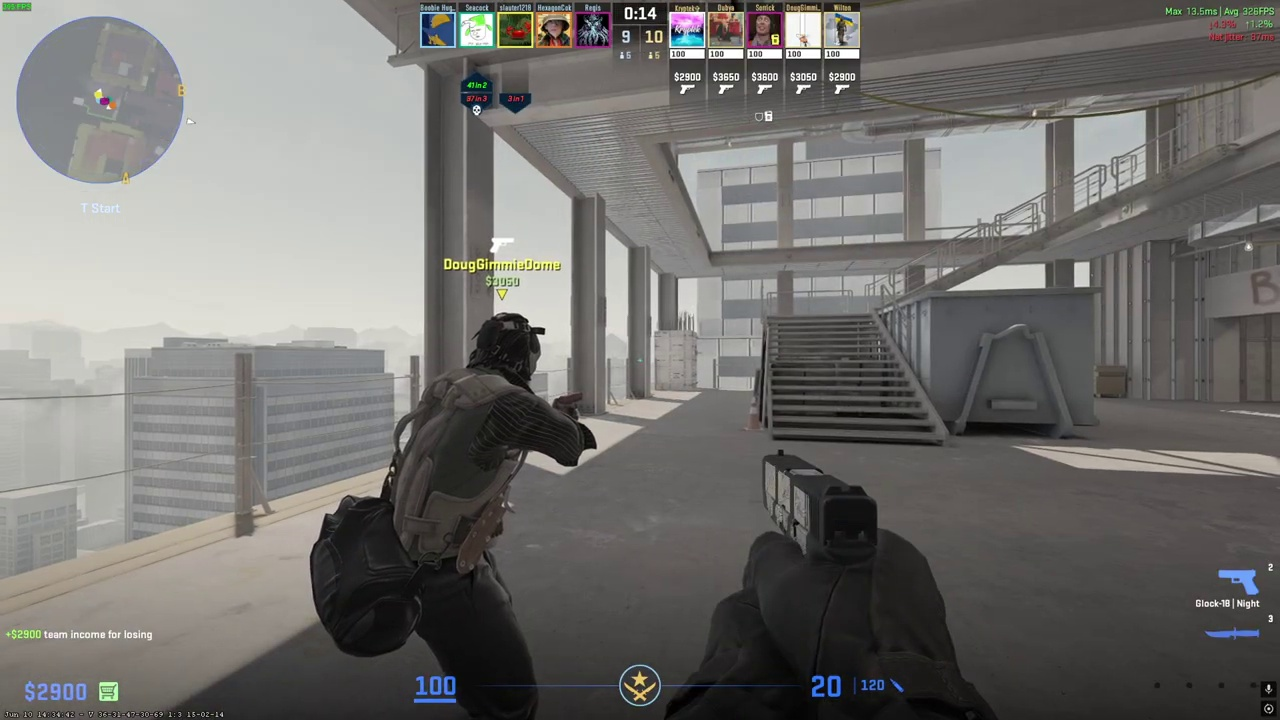Terrorist: (383, 313, 568, 718)
